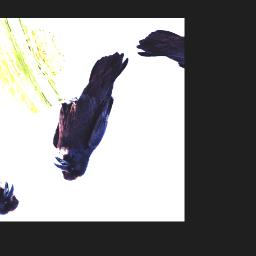Crow: (21, 46, 167, 186)
